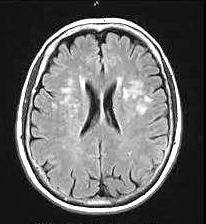Normal_Brain: (1, 1, 206, 224)
